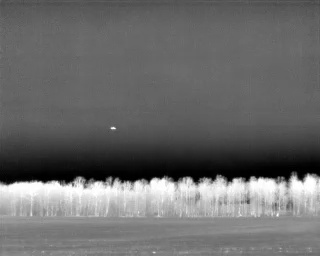DRONE: (107, 122, 119, 135)
